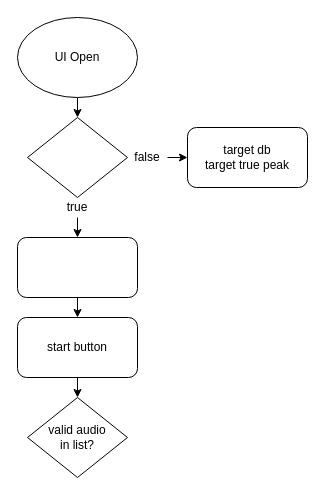
This 325x495 diagram has some shape labels left out. The shapes that lost their labels are listed below. From the top down, each one's centre as x and y in pixels, then its label:
At point 77,157: "Easy Mode?".
At point 77,267: "add audio / list audio files".
